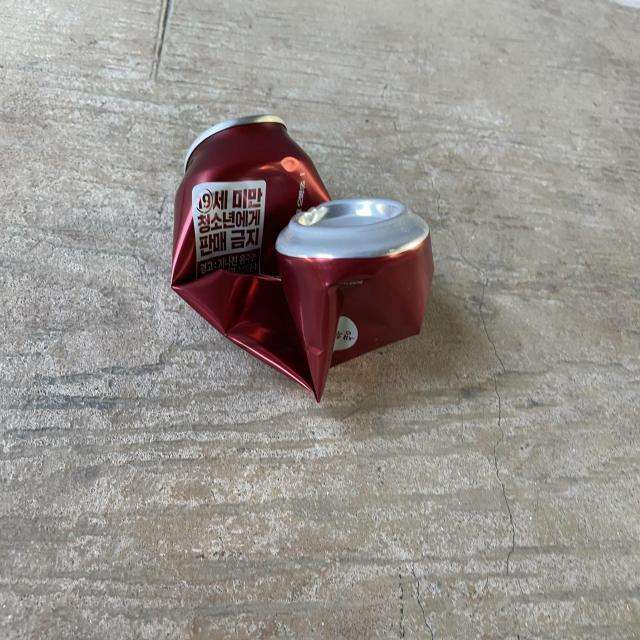can: (171, 114, 434, 402)
